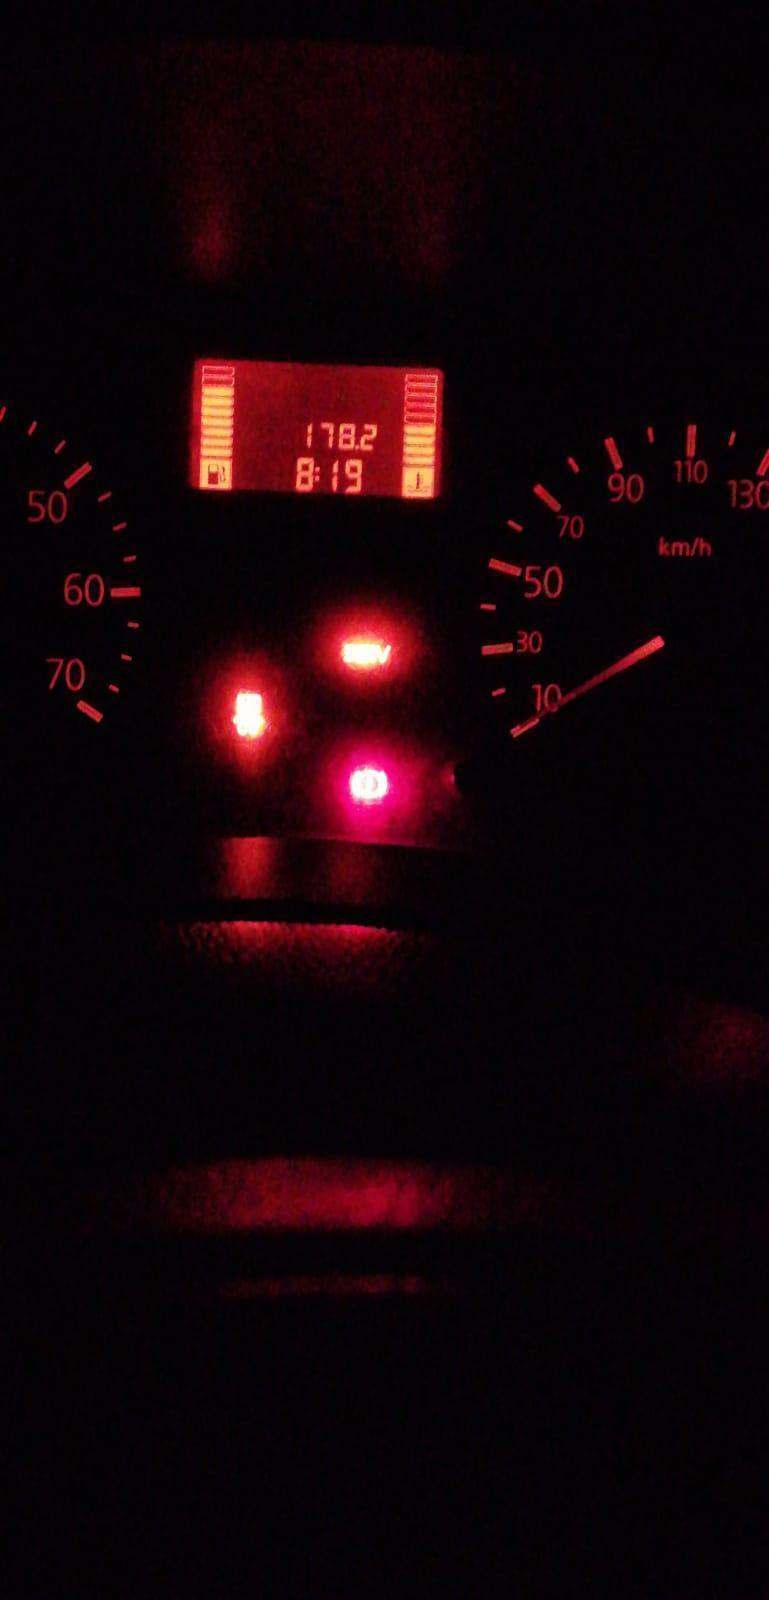,: (354, 444, 360, 451)
1: (330, 459, 339, 493), (305, 422, 313, 448)
2: (359, 423, 377, 451)
7: (319, 421, 335, 449)
8: (295, 456, 314, 492), (338, 422, 356, 450)
9: (344, 458, 363, 493)
X: (314, 465, 321, 482)
odometer: (184, 355, 446, 504)
